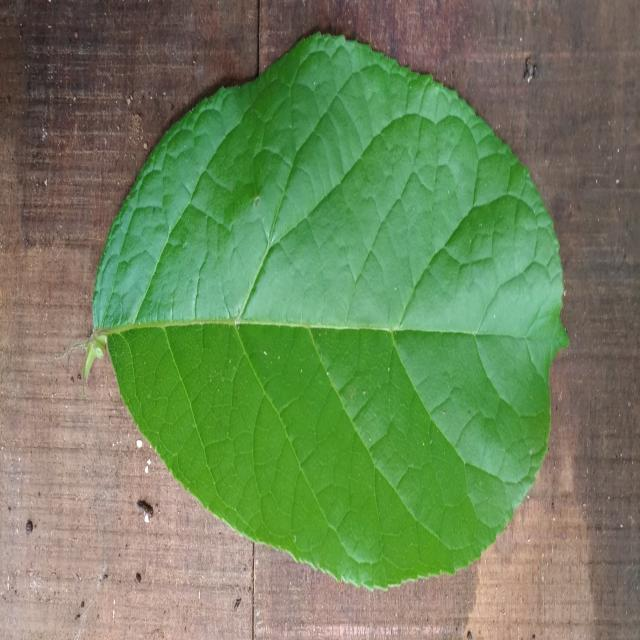padri: (84, 33, 568, 589)
